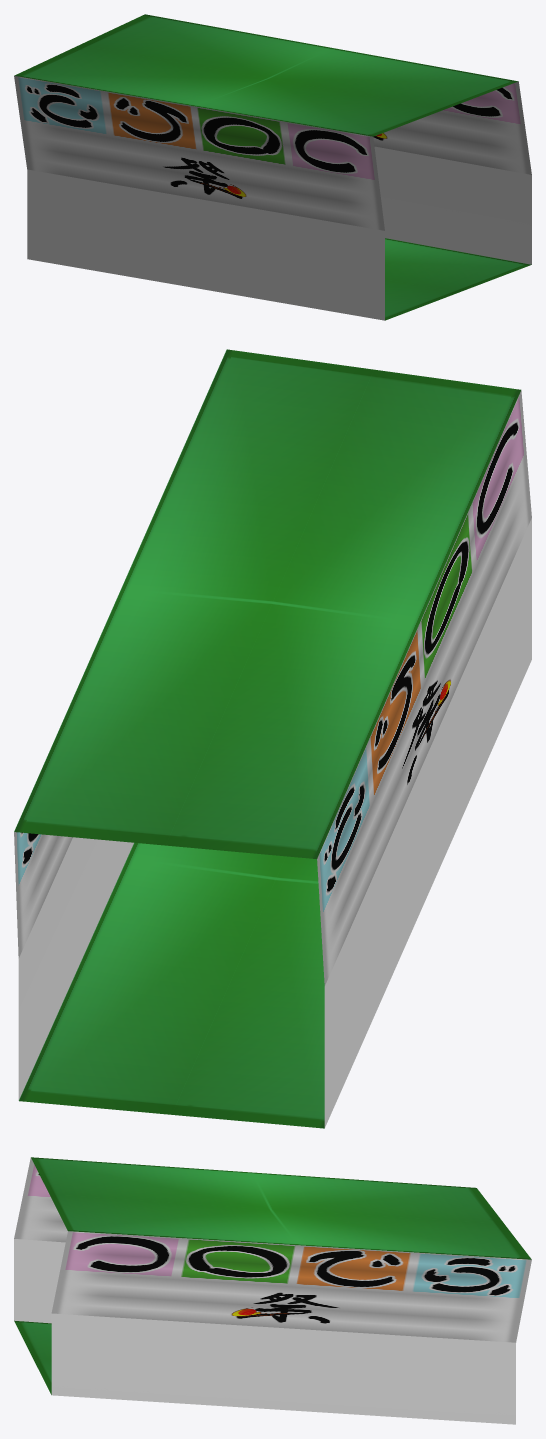
The picture shows the model from 3 angles, top to bottom: view 1: azimuth 30°, elevation 25°; view 2: azimuth 150°, elevation 25°; view 3: azimuth 270°, elevation 25°; orthographic projection. The views are drawn at different scales.
Visible parts, largest first — view 1: polySurface111; view 2: polySurface111; view 3: polySurface111.
Boxes of the visible parts, <box> form: polySurface111: <box>14,14,531,320</box>; polySurface111: <box>14,349,531,1128</box>; polySurface111: <box>14,1157,531,1424</box>.
Size of the model in its own units: 3.33 by 2.98 by 5.73.
